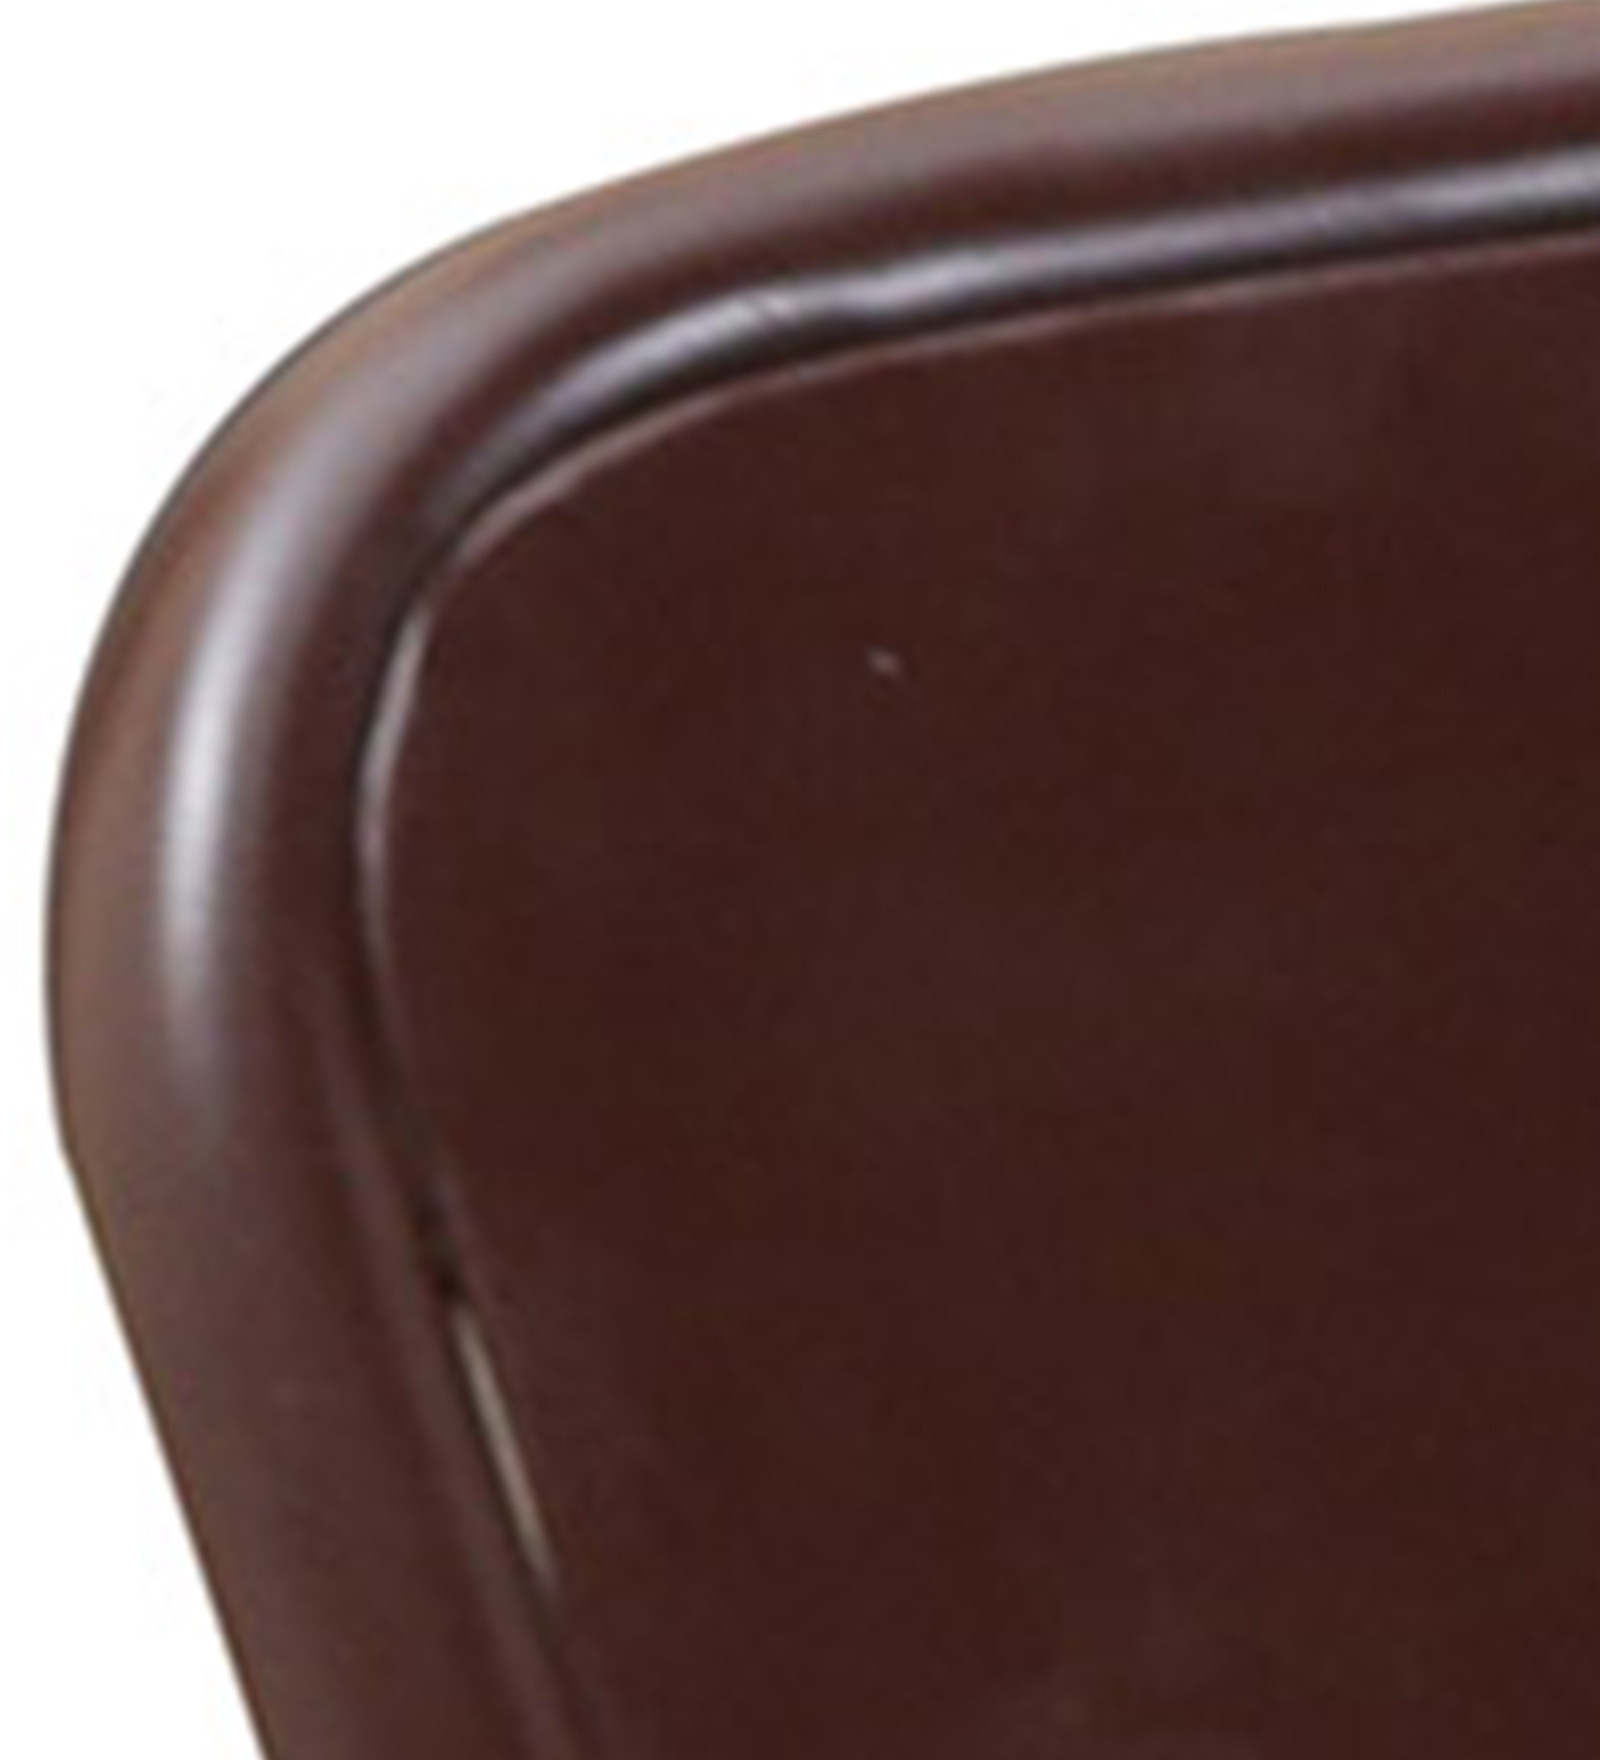Kell Folding Chair in Brown Color by Bohemiana: (35, 5, 1598, 1760)
